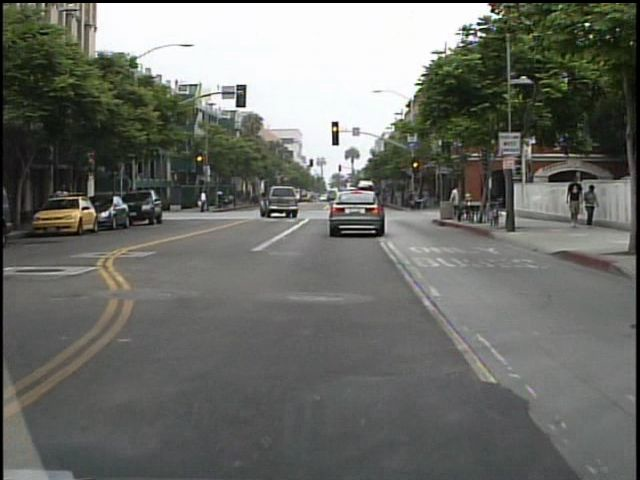person: (562, 174, 583, 229), (580, 182, 601, 231), (445, 183, 466, 224), (198, 187, 211, 215)
